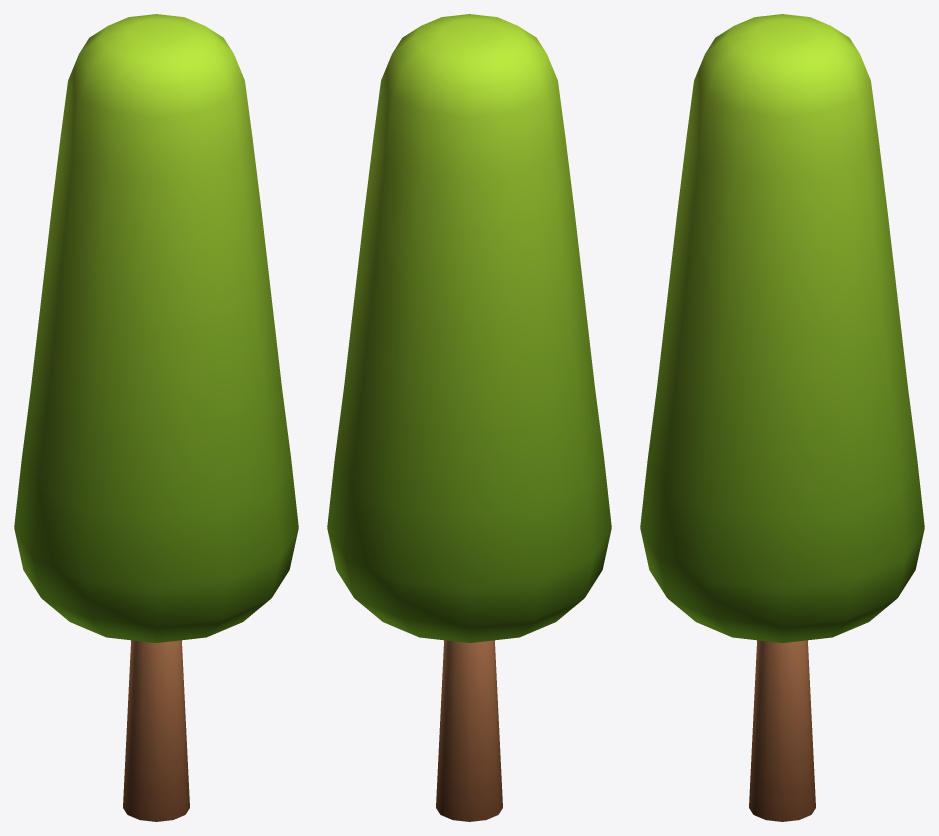
Rendered from lpb_tree_7_a.fbx.
The picture shows the model from 3 angles, left to right: view 1: azimuth 30°, elevation 25°; view 2: azimuth 150°, elevation 25°; view 3: azimuth 270°, elevation 25°; orthographic projection.
Visible parts, largest first — view 1: ap_tree_7; view 2: ap_tree_7; view 3: ap_tree_7.
Part boxes in pixels (bbox=[...]): ap_tree_7: bbox=[14, 14, 298, 821]; ap_tree_7: bbox=[327, 14, 611, 821]; ap_tree_7: bbox=[640, 14, 924, 821].
Bounding box in the file's own units: 171 × 514 × 171.
